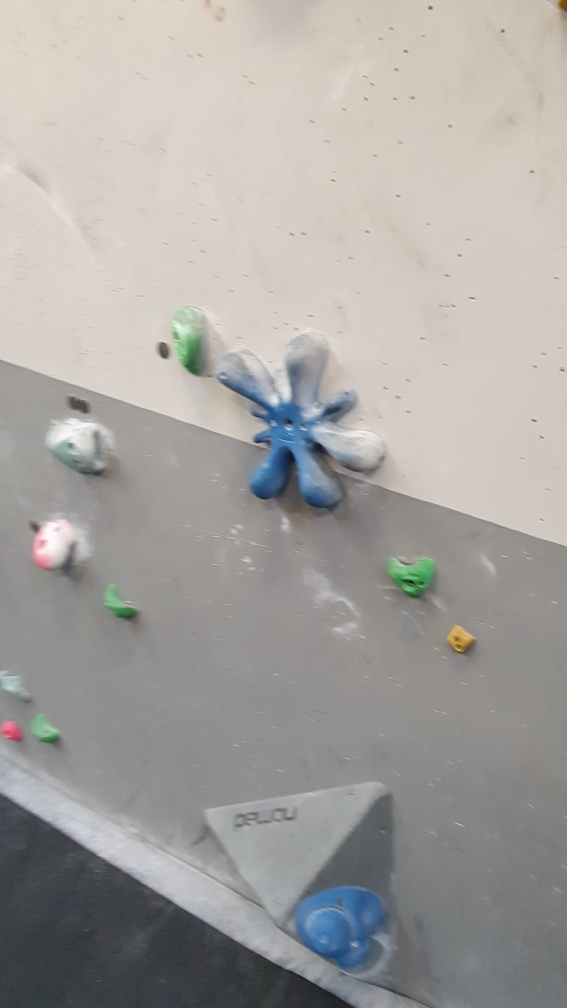Hand Start: (151, 341, 173, 360), (64, 391, 80, 412), (77, 396, 94, 413)
Jug: (27, 518, 91, 572), (385, 555, 440, 602), (99, 584, 140, 620)
Octopus Pinch: (212, 329, 390, 512)
Sloper: (290, 881, 390, 981)
